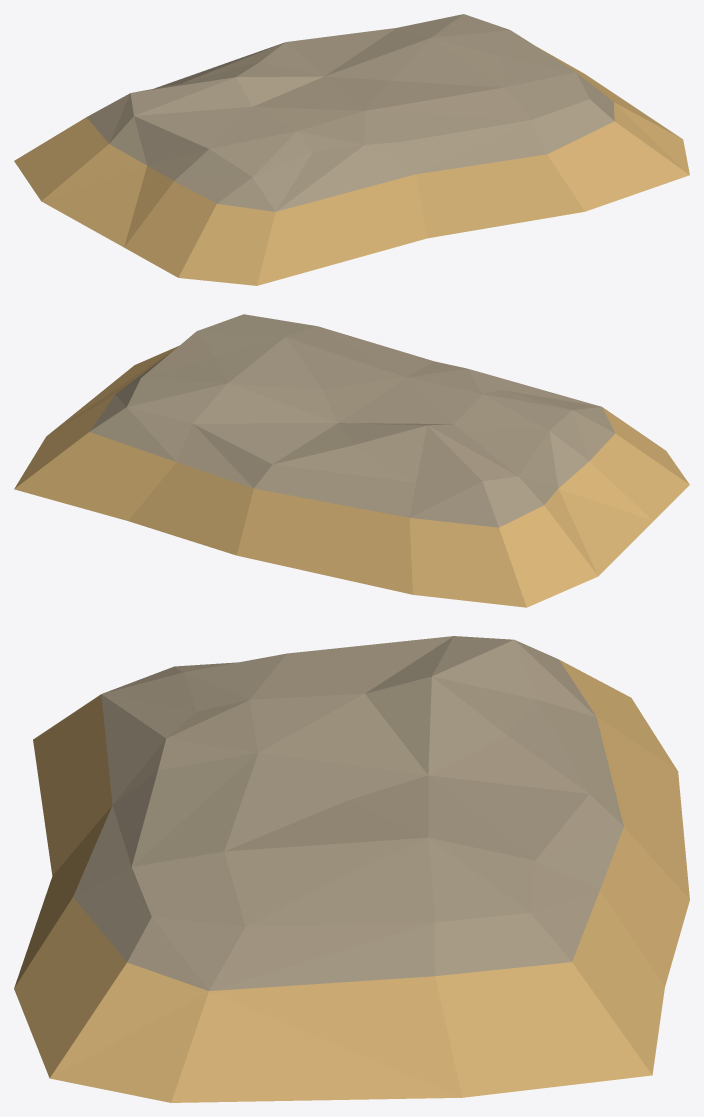
The model's file is TB_D_Env_Mound_Med_B.FBX.
3 renders of one model, top to bottom at view 1: azimuth 30°, elevation 25°; view 2: azimuth 150°, elevation 25°; view 3: azimuth 270°, elevation 25°, orthographic. The views are drawn at different scales.
Parts seen in each view (by area): view 1: TB_D_Env_Mound_Med_B; view 2: TB_D_Env_Mound_Med_B; view 3: TB_D_Env_Mound_Med_B.
Part boxes in pixels (bbox=[...]): TB_D_Env_Mound_Med_B: bbox=[14, 14, 689, 285]; TB_D_Env_Mound_Med_B: bbox=[14, 314, 689, 607]; TB_D_Env_Mound_Med_B: bbox=[14, 636, 689, 1102].
Size of the model in its own units: 19.48 by 3.11 by 13.21.
